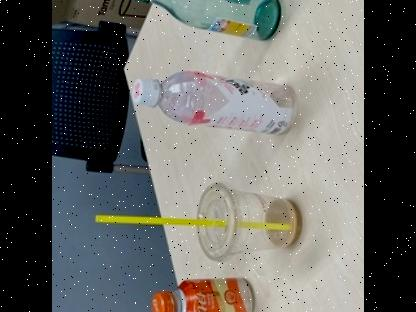Others: (88, 172, 308, 262), (127, 0, 285, 44), (148, 271, 258, 312)
Plastic Bottle: (126, 62, 302, 140)
